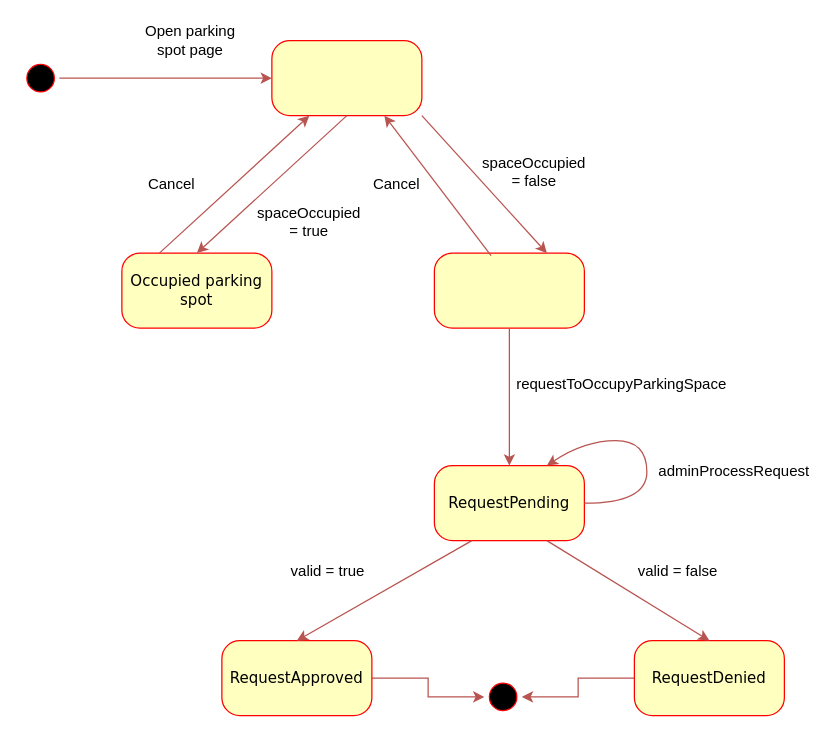
Image size: 831x738. Some labels were removed from this diagram. Here are the shapes that lost their labels. From the top down, the box of each, then its label:
(271, 39, 422, 116): SelectParkingSpot
(433, 252, 584, 328): Free parking spot
